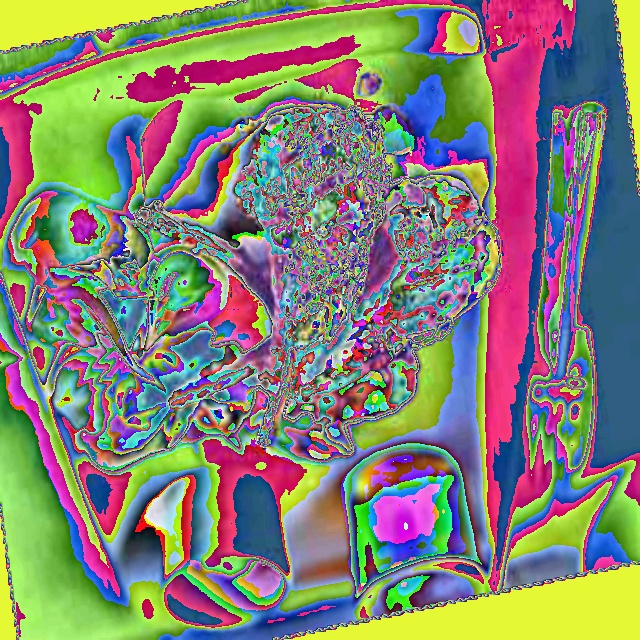background: (15, 106, 502, 478), (147, 173, 490, 621), (60, 28, 259, 582)
